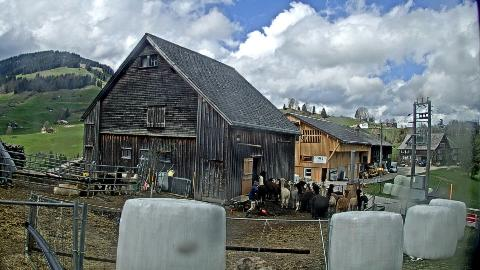car: (388, 166, 398, 172), (418, 162, 426, 166)
sheep: (98, 168, 125, 195), (311, 188, 333, 219), (260, 170, 280, 204), (53, 177, 85, 197), (110, 170, 136, 194), (295, 182, 315, 210), (320, 187, 336, 217), (288, 180, 304, 210), (72, 183, 102, 197), (337, 189, 351, 213), (280, 178, 290, 208), (257, 176, 267, 204), (356, 189, 368, 211), (320, 185, 332, 207), (304, 184, 314, 208), (330, 185, 342, 203), (350, 191, 360, 211), (312, 186, 320, 198), (310, 183, 318, 193)
